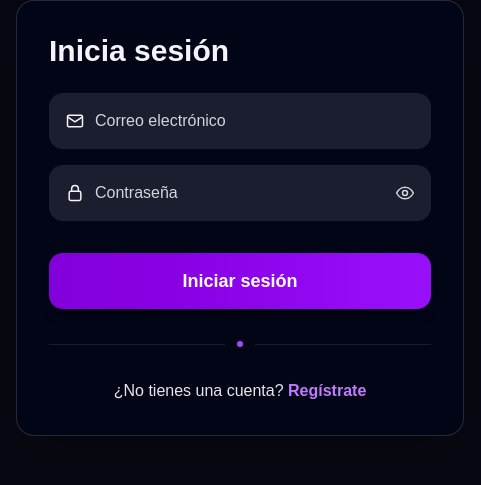
Test: LoginForm › should disable the submit button while loading
In the field labelled "Correo electrónico": (255, 121) top-left (95, 93), bottom-right (415, 149), type "usuario@gmail.com"
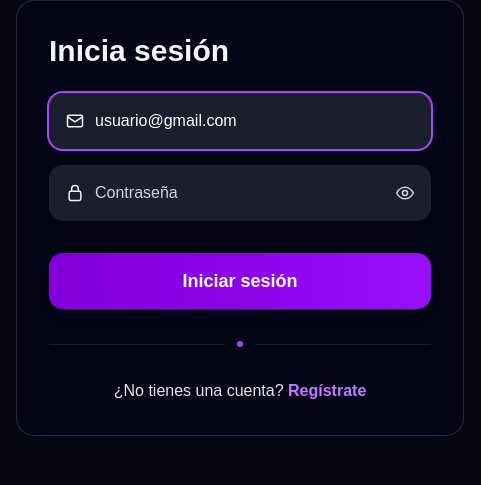
In the password field labelled "Contraseña": (240, 193) top-left (95, 165), bottom-right (385, 221), type "Password123"
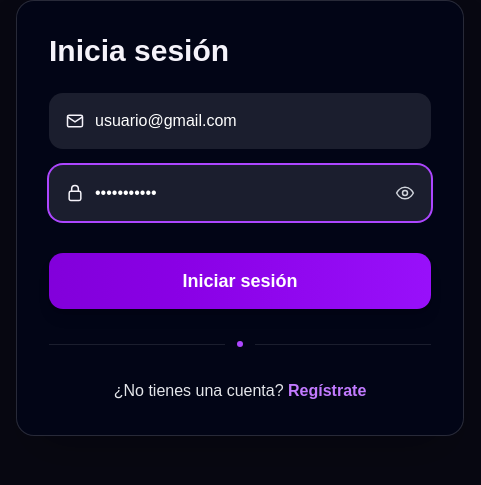
Click the button "Iniciar sesión": (240, 281) top-left (49, 253), bottom-right (431, 309)
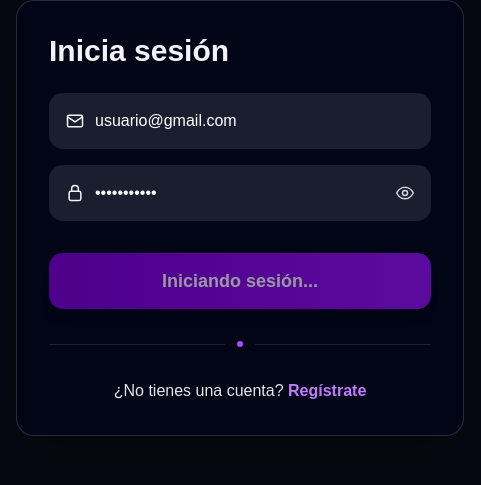
Expected: the button named "Iniciar sesión" is disabled
Expected: the button named "Iniciar sesión" reads "Iniciando sesión..."
Click the button named "Iniciar sesión": (240, 281) top-left (49, 253), bottom-right (431, 309)
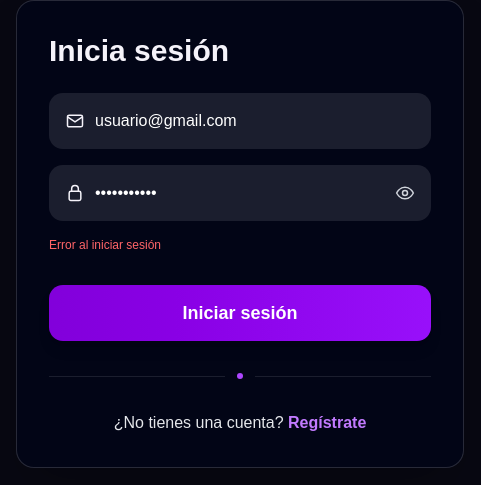
Expected: the button "Iniciar sesión" is enabled, top-left (49, 285), bottom-right (431, 341)
Expected: the button "Iniciar sesión" is shown, top-left (49, 285), bottom-right (431, 341)
Expected: the message reads "Error al iniciar sesión", top-left (49, 238), bottom-right (161, 252)
